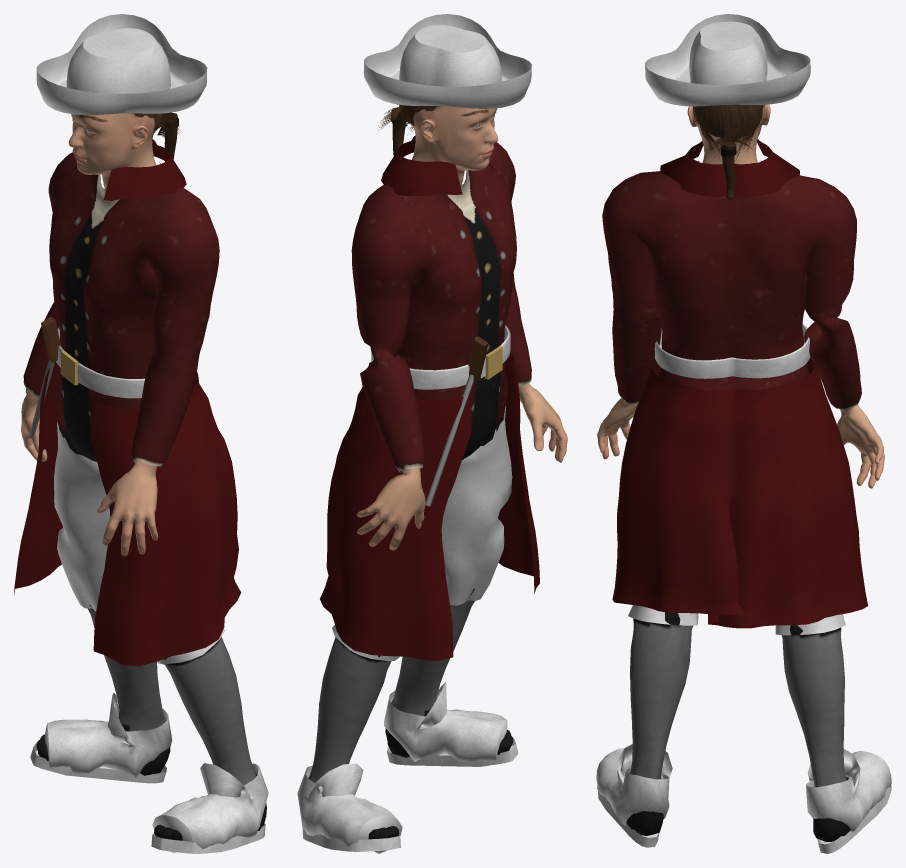
File: SM_Art_Person_sharpshooter.gltf
3 renders of one model, left to right at view 1: azimuth 30°, elevation 25°; view 2: azimuth 150°, elevation 25°; view 3: azimuth 270°, elevation 25°, orthographic. The views are drawn at different scales.
Parts seen in each view (by area): view 1: SM_Art_Person_sharpshooter; view 2: SM_Art_Person_sharpshooter; view 3: SM_Art_Person_sharpshooter.
Boxes of the visible parts, bbox=[...] form: SM_Art_Person_sharpshooter: bbox=[14, 14, 268, 853]; SM_Art_Person_sharpshooter: bbox=[297, 14, 567, 853]; SM_Art_Person_sharpshooter: bbox=[596, 14, 891, 853].
Size of the model in its own units: 0.4446 by 1.85 by 0.6387.
Materials: 23 (19 with a texture image).
